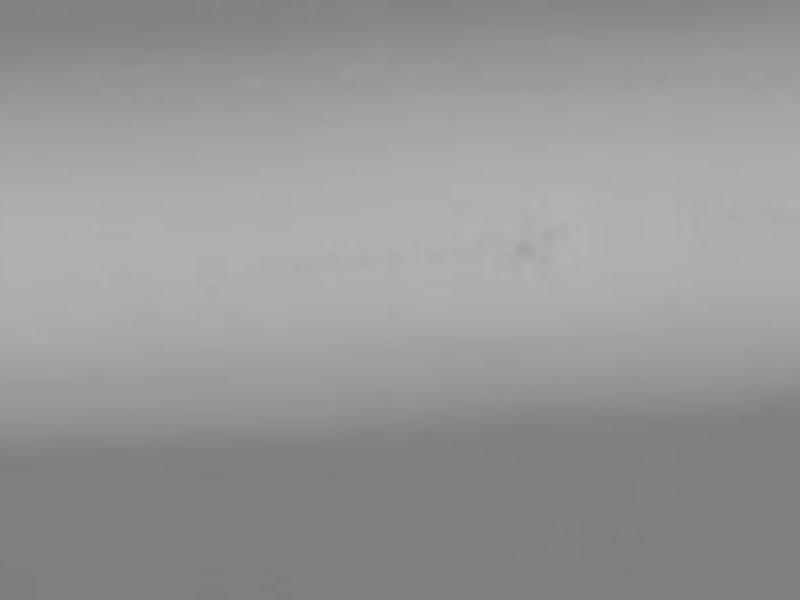defect: (512, 237, 542, 263), (536, 223, 564, 246)
